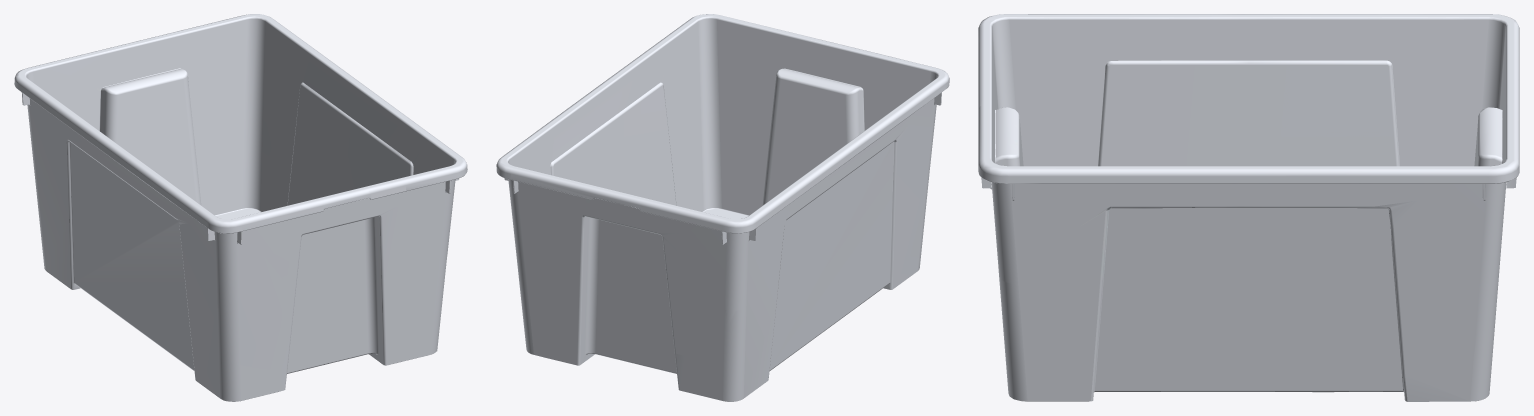
Rendered from SAMLA boite 56x39x28cm-45l transparent.glb.
3 views of the same model, side by side, from view 1: azimuth 30°, elevation 25°; view 2: azimuth 150°, elevation 25°; view 3: azimuth 270°, elevation 25° (orthographic). The views are drawn at different scales.
Visible parts, largest first — view 1: 30102974-SAMLA001; view 2: 30102974-SAMLA001; view 3: 30102974-SAMLA001.
Boxes of the visible parts, x1=… form: 30102974-SAMLA001: x1=14, y1=14, x2=467, y2=401; 30102974-SAMLA001: x1=496, y1=14, x2=949, y2=401; 30102974-SAMLA001: x1=978, y1=14, x2=1519, y2=401.
Bounding box in the file's own units: 0.6587 × 0.4705 × 0.9471.
Materials: 1 (1 with a texture image).
